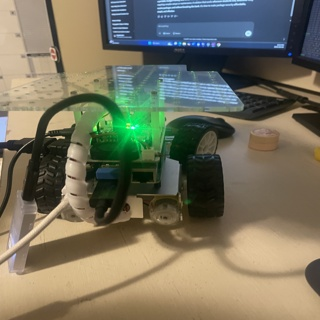vehicle: (23, 64, 244, 235)
